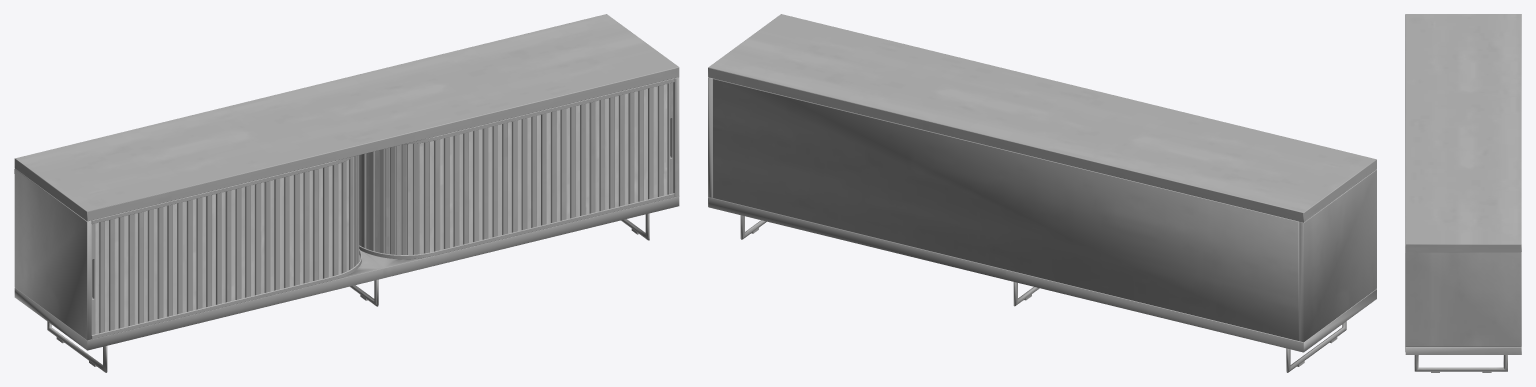
The model's file is sideboard.glb.
3 renders of one model, left to right at view 1: azimuth 30°, elevation 25°; view 2: azimuth 150°, elevation 25°; view 3: azimuth 270°, elevation 25°, orthographic. The views are drawn at different scales.
Parts seen in each view (by area): view 1: modern_wooden_cabinet_body, modern_wooden_cabinet_door_r, modern_wooden_cabinet_door_l; view 2: modern_wooden_cabinet_body; view 3: modern_wooden_cabinet_body.
Boxes of the visible parts, bbox=[...] form: modern_wooden_cabinet_body: bbox=[14, 14, 679, 372]; modern_wooden_cabinet_door_r: bbox=[359, 82, 673, 254]; modern_wooden_cabinet_door_l: bbox=[91, 155, 359, 334]; modern_wooden_cabinet_body: bbox=[708, 14, 1376, 372]; modern_wooden_cabinet_body: bbox=[1405, 14, 1521, 372].
Size of the model in its own units: 2.44 by 0.6801 by 0.5201.
1 material, 1 textured.
